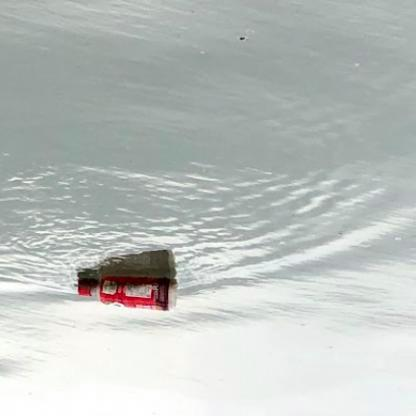Plastic: (74, 274, 180, 313)
